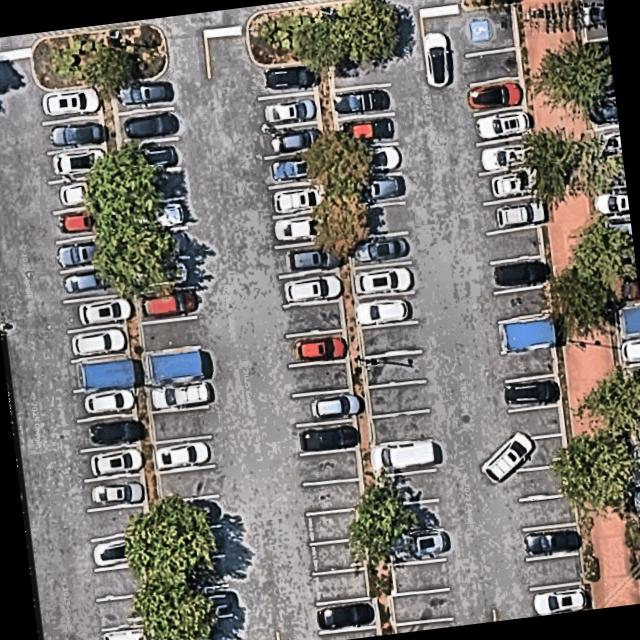car: (383, 527, 450, 565), (368, 440, 437, 475), (342, 173, 409, 207), (296, 421, 361, 456), (90, 532, 151, 569), (521, 525, 587, 558), (502, 374, 562, 410), (139, 286, 198, 322), (337, 144, 403, 176), (351, 265, 415, 298), (282, 272, 346, 305), (464, 78, 524, 113), (530, 583, 593, 616), (348, 233, 412, 265), (146, 380, 210, 412), (313, 599, 375, 632), (39, 87, 101, 120), (54, 237, 115, 270), (49, 118, 110, 151), (272, 212, 332, 245), (270, 184, 330, 217), (331, 86, 392, 118), (351, 296, 412, 328), (120, 110, 181, 142), (492, 255, 549, 289), (152, 440, 212, 472), (50, 146, 110, 178), (473, 108, 532, 140), (62, 264, 121, 296), (478, 139, 535, 172), (267, 124, 325, 156), (110, 78, 174, 107), (88, 478, 146, 510), (87, 446, 145, 478), (55, 176, 113, 208), (86, 417, 145, 448), (333, 116, 396, 145), (262, 61, 317, 94), (308, 392, 366, 423), (127, 199, 185, 230), (493, 198, 548, 230), (295, 336, 353, 366), (269, 154, 326, 184), (263, 97, 320, 127), (122, 145, 179, 175), (78, 297, 135, 327), (286, 244, 343, 273), (135, 260, 192, 289), (69, 327, 124, 357), (60, 207, 116, 236), (487, 169, 540, 199), (83, 388, 137, 416), (595, 191, 629, 217), (99, 628, 163, 640), (590, 100, 618, 127), (579, 1, 606, 28), (605, 221, 632, 247), (595, 131, 622, 156), (601, 161, 626, 186), (612, 249, 636, 275), (585, 42, 611, 66), (618, 276, 640, 304), (588, 71, 614, 94), (621, 365, 640, 395), (621, 337, 640, 361), (631, 486, 640, 512), (632, 426, 640, 450)
lot_boundary: (0, 4, 586, 640), (572, 0, 640, 558)
objects: (311, 60, 394, 635), (94, 84, 178, 640), (71, 356, 133, 392), (146, 348, 203, 384), (497, 316, 552, 352), (613, 306, 640, 338)
stall: (459, 4, 516, 56), (368, 379, 428, 417), (352, 261, 412, 299), (392, 587, 452, 625), (273, 239, 333, 277), (280, 299, 340, 337), (253, 61, 313, 99), (129, 225, 189, 263), (132, 257, 192, 295), (171, 585, 231, 623), (160, 495, 220, 533), (88, 503, 148, 541), (49, 175, 109, 213), (52, 203, 112, 241), (364, 351, 424, 388), (360, 320, 420, 357), (356, 292, 416, 329), (352, 263, 412, 300), (349, 233, 409, 270), (316, 597, 376, 634), (371, 411, 431, 448), (284, 330, 344, 367), (288, 359, 348, 396), (290, 389, 350, 426), (294, 419, 354, 456), (298, 449, 358, 486), (301, 478, 361, 515), (259, 121, 319, 158), (269, 210, 329, 247), (278, 268, 338, 305), (150, 407, 210, 444), (154, 436, 214, 473), (256, 92, 316, 129), (118, 107, 178, 144), (122, 138, 182, 175), (124, 166, 184, 203), (127, 197, 187, 234), (136, 286, 196, 323), (140, 317, 200, 354), (168, 555, 228, 592), (166, 526, 226, 563), (158, 466, 218, 503), (114, 78, 174, 115), (84, 474, 144, 511), (92, 533, 152, 570), (95, 563, 155, 600), (98, 593, 158, 630), (44, 145, 104, 182), (55, 233, 115, 270), (59, 265, 119, 302), (63, 293, 123, 330), (66, 324, 126, 361), (74, 384, 134, 421), (76, 414, 136, 451), (81, 444, 141, 481), (40, 87, 100, 124), (41, 116, 101, 153), (472, 107, 528, 143), (464, 48, 520, 84), (392, 559, 448, 595), (522, 524, 578, 560), (334, 83, 390, 119), (376, 439, 432, 475), (388, 530, 444, 566), (308, 538, 364, 574), (312, 568, 368, 604), (268, 182, 324, 218), (501, 345, 556, 381), (504, 375, 559, 411), (468, 78, 523, 114), (475, 137, 530, 173), (479, 168, 534, 204), (481, 196, 536, 232), (485, 227, 540, 263), (490, 256, 545, 292), (494, 286, 549, 322), (513, 464, 568, 500), (510, 436, 565, 472), (518, 494, 573, 530), (506, 405, 561, 441), (526, 553, 581, 589), (346, 172, 401, 208), (341, 144, 396, 180), (338, 114, 393, 150), (331, 54, 386, 90), (381, 470, 436, 506), (385, 498, 440, 534), (349, 204, 404, 240), (304, 508, 359, 544), (265, 150, 320, 186), (274, 212, 329, 248), (529, 583, 584, 617), (176, 615, 236, 640), (577, 0, 608, 42), (101, 622, 161, 640), (594, 155, 626, 187), (598, 186, 630, 218), (587, 96, 618, 128), (602, 216, 633, 248), (606, 244, 637, 276), (591, 128, 622, 160), (609, 274, 640, 306), (580, 38, 611, 70), (584, 68, 615, 100), (318, 626, 379, 640), (396, 618, 452, 633), (616, 335, 640, 367), (620, 363, 640, 395), (624, 396, 640, 428), (627, 424, 640, 456), (631, 453, 640, 485)
